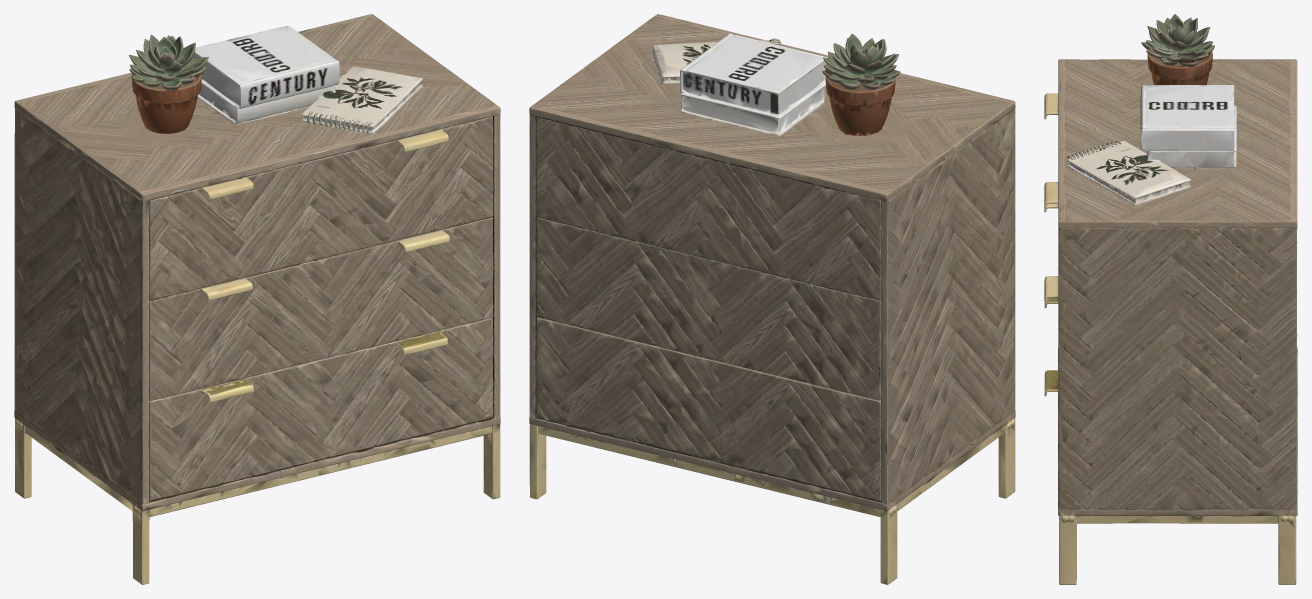
The model's file is kommode.glb.
3 renders of one model, left to right at view 1: azimuth 30°, elevation 25°; view 2: azimuth 150°, elevation 25°; view 3: azimuth 270°, elevation 25°, orthographic. The views are drawn at different scales.
Bounding box in the file's own units: 1.51 × 1.91 × 0.9866.
1 material, 1 textured.
